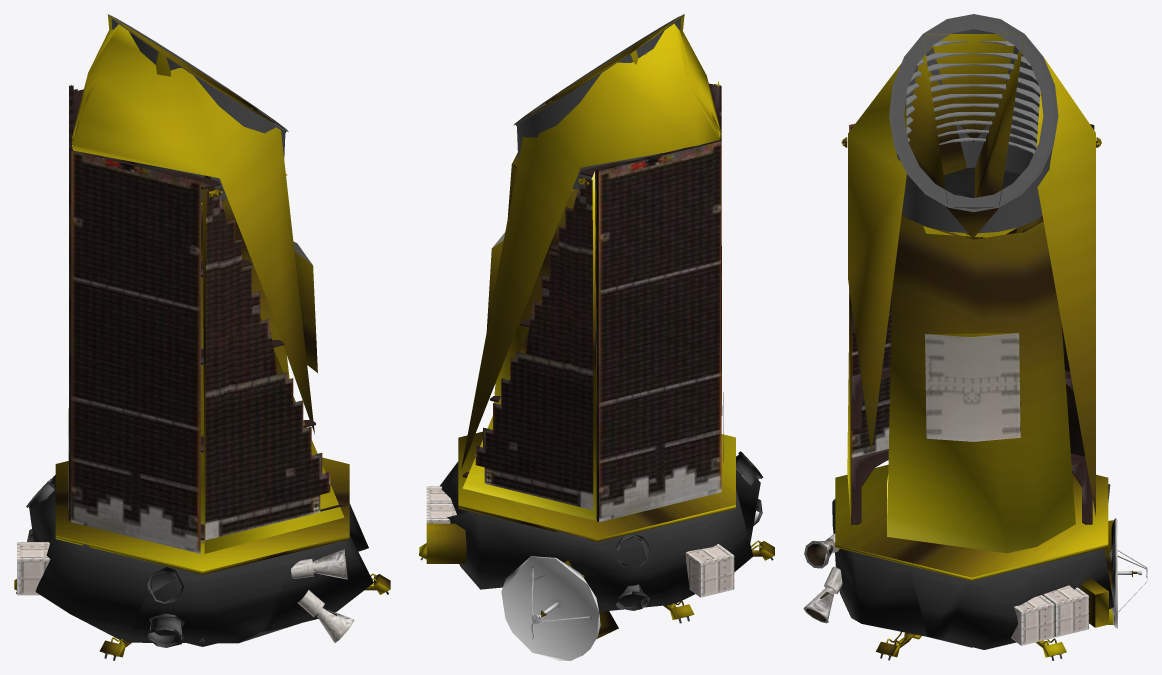
File: kepler.glb
3 views of the same model, side by side, from view 1: azimuth 30°, elevation 25°; view 2: azimuth 150°, elevation 25°; view 3: azimuth 270°, elevation 25° (orthographic). The views are drawn at different scales.
Visible parts, largest first — view 1: tex_01.001, foil_gold, foil_silver; view 2: tex_01.001, foil_gold, foil_silver, dish_AO; view 3: foil_gold, tex_01.001, foil_silver, dish_AO.
Boxes of the visible parts, <box> form: tex_01.001: <box>17,14,354,642</box>; foil_gold: <box>14,14,390,657</box>; foil_silver: <box>16,475,388,660</box>; tex_01.001: <box>426,14,734,597</box>; foil_gold: <box>419,14,774,638</box>; foil_silver: <box>420,451,773,623</box>; dish_AO: <box>501,556,600,660</box>; foil_gold: <box>835,21,1137,657</box>; tex_01.001: <box>803,14,1094,645</box>; foil_silver: <box>832,484,1113,660</box>; dish_AO: <box>1110,518,1147,628</box>.
Bounding box in the file's own units: 2.65 × 5 × 2.66.
Materials: 5 (5 with a texture image).
